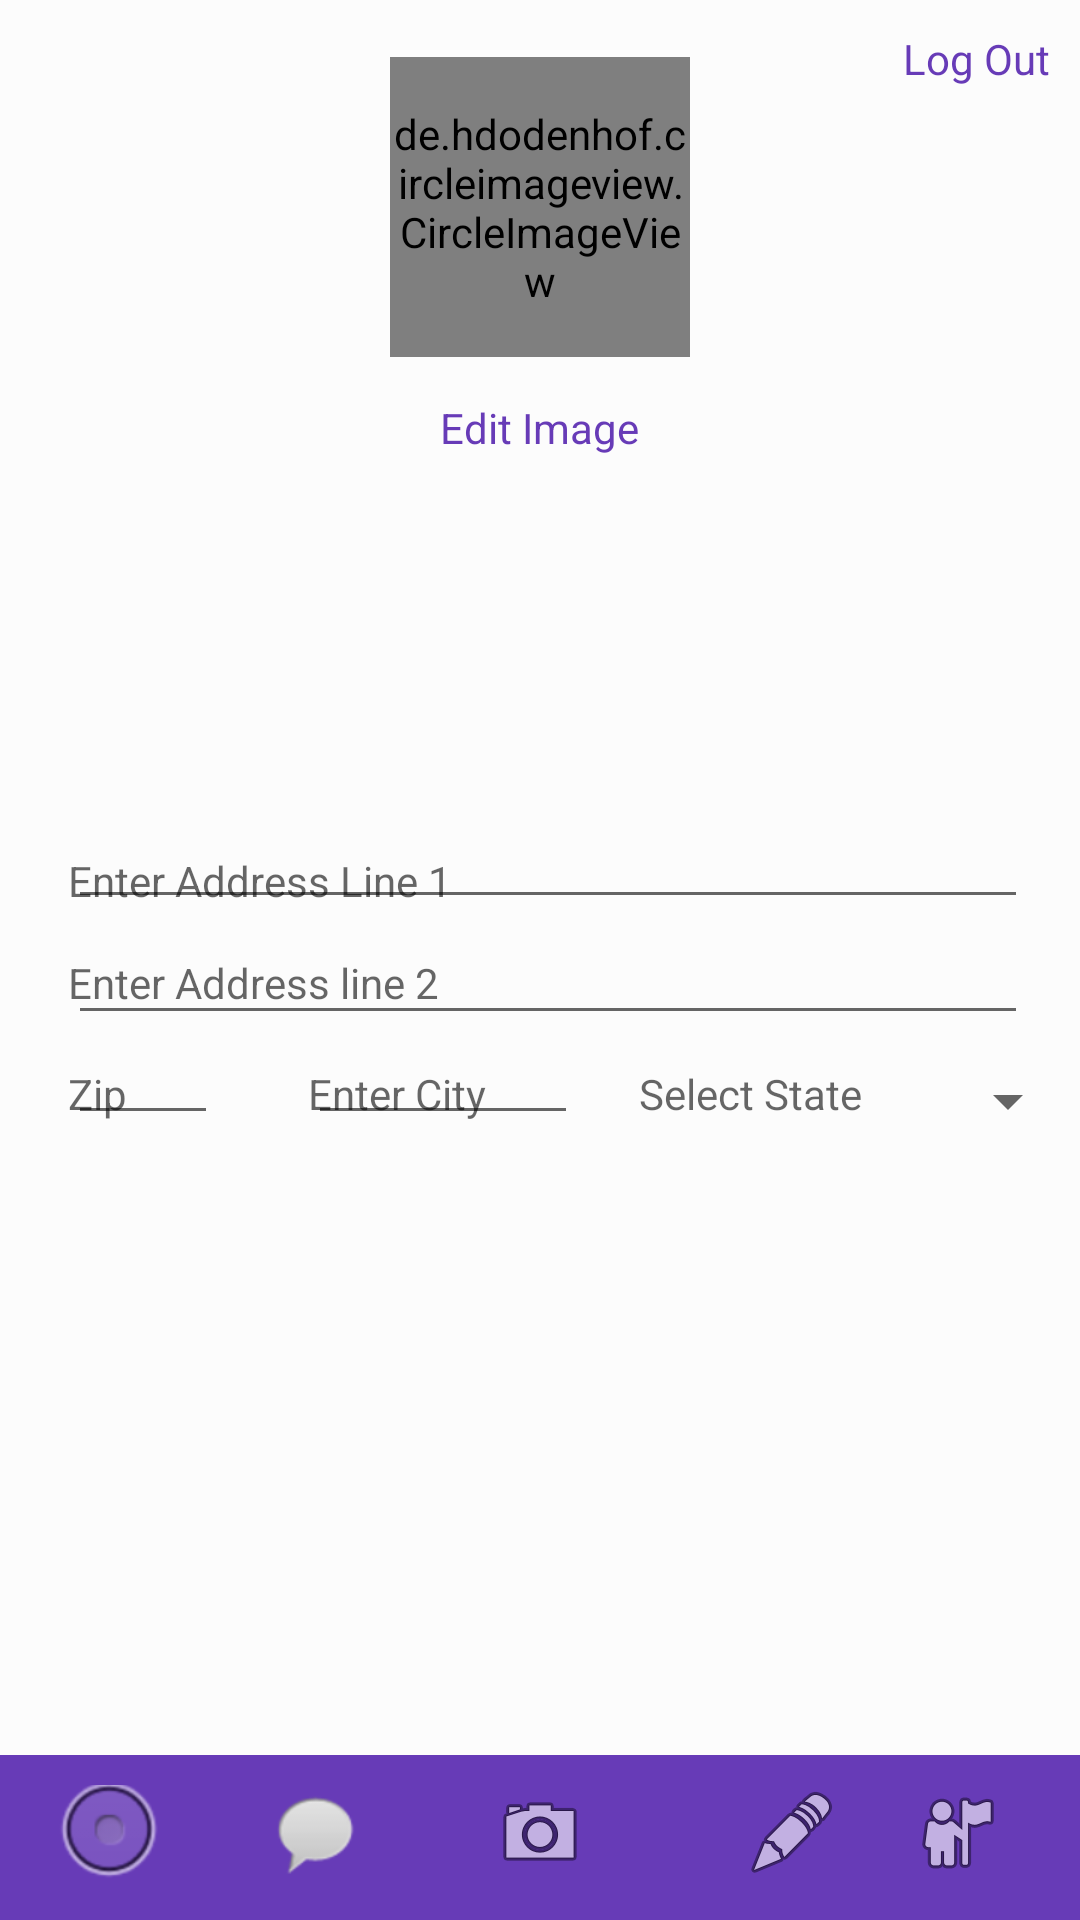

Screen size 1080w x 1920h. Icon name, then its box in pixels as (x1, y1, x2, y2):
camera: (503, 1802, 577, 1861)
edit: (751, 1792, 832, 1873)
myplaces: (922, 1797, 994, 1869)
sym action chat: (278, 1798, 353, 1873)
